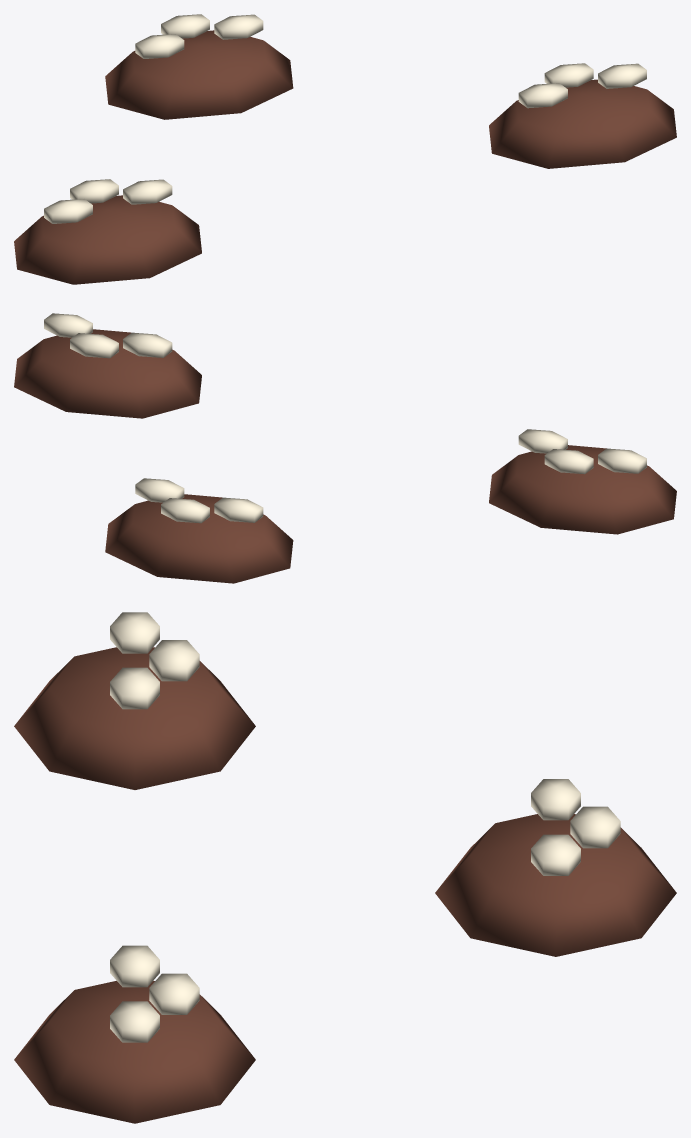
Rendered from stage_0_seed.glb.
The picture shows the model from 3 angles, top to bottom: view 1: azimuth 30°, elevation 25°; view 2: azimuth 150°, elevation 25°; view 3: azimuth 270°, elevation 25°; orthographic projection. The views are drawn at different scales.
Parts seen in each view (by area): view 1: 土丘.002, 土丘, 土丘.001, 种子.008, 种子.002, 种子.003, 种子.006, 种子.005, 种子, 种子.004, 种子.001, 种子.007; view 2: 土丘, 土丘.002, 土丘.001, 种子.006, 种子.003, 种子.001, 种子, 种子.004, 种子.007, 种子.002, 种子.008, 种子.005; view 3: 土丘.001, 土丘, 土丘.002, 种子.007, 种子.002, 种子.003, 种子.001, 种子.004, 种子, 种子.005, 种子.006, 种子.008.
Boxes of the visible parts, x1,y1,x2,y2 form: 土丘.002: [105, 30, 293, 119]; 土丘: [14, 195, 201, 284]; 土丘.001: [489, 79, 676, 168]; 种子.008: [214, 14, 263, 39]; 种子.002: [123, 179, 172, 204]; 种子.003: [518, 83, 567, 108]; 种子.006: [135, 34, 184, 58]; 种子.005: [598, 63, 646, 88]; 种子: [44, 199, 92, 223]; 种子.004: [544, 63, 593, 87]; 种子.001: [70, 179, 118, 203]; 种子.007: [161, 14, 209, 38]; 土丘: [489, 445, 676, 534]; 土丘.002: [105, 494, 293, 583]; 土丘.001: [14, 329, 201, 418]; 种子.006: [214, 497, 263, 522]; 种子.003: [123, 332, 172, 357]; 种子.001: [544, 449, 593, 474]; 种子: [598, 448, 646, 473]; 种子.004: [70, 333, 118, 358]; 种子.007: [161, 498, 209, 523]; 种子.002: [518, 429, 567, 453]; 种子.008: [135, 478, 184, 502]; 种子.005: [44, 313, 92, 337]; 土丘.001: [14, 980, 255, 1123]; 土丘: [14, 647, 255, 789]; 土丘.002: [435, 814, 676, 956]; 种子.007: [570, 806, 620, 848]; 种子.002: [110, 667, 159, 709]; 种子.003: [110, 945, 159, 987]; 种子.001: [149, 640, 199, 681]; 种子.004: [149, 973, 199, 1014]; 种子: [110, 612, 159, 653]; 种子.005: [110, 1001, 159, 1042]; 种子.006: [531, 779, 580, 820]; 种子.008: [531, 834, 580, 875].
Size of the model in its own units: 0.83 by 0.066 by 0.504.
Materials: 1 (1 with a texture image).
